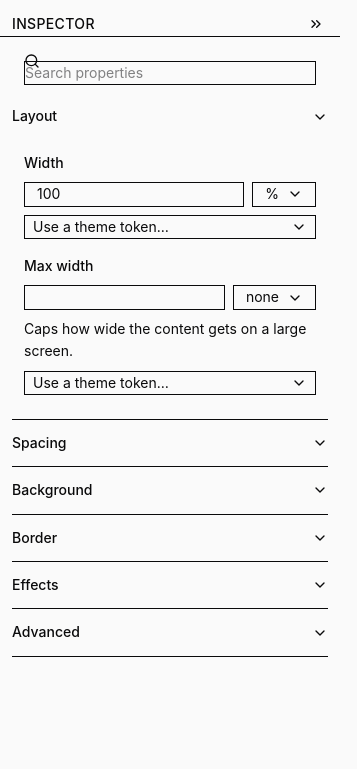
Test: applying a value to every breakpoint › shows the same value at every breakpoint afterwards
Click the button "Spacing" at (39, 442), box [12,420,328,466]
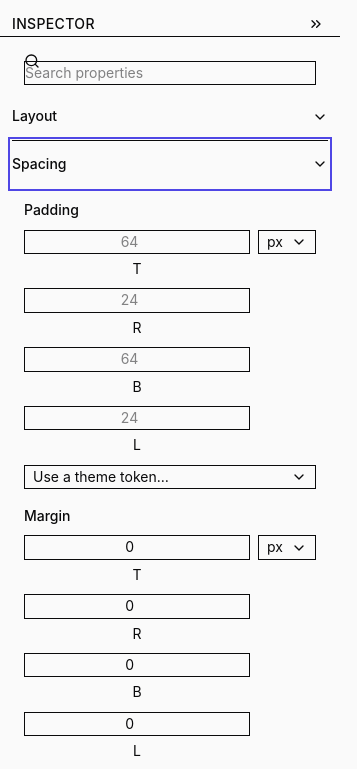
Type "8" into the number field named "Padding top" at (137, 242), box [24,230,250,254]
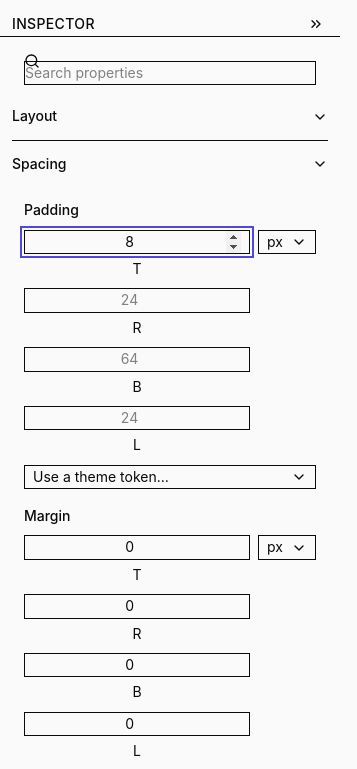
Replace the text in the number field named "Padding top" with "4" at (137, 242), box [24,230,250,254]
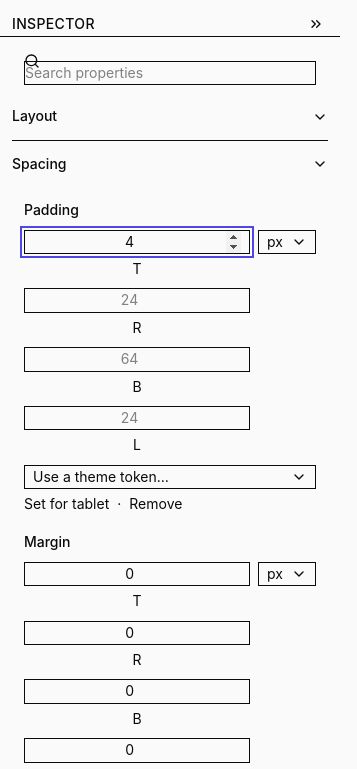
Type keys "{Meta>}{Enter}{/Meta}"
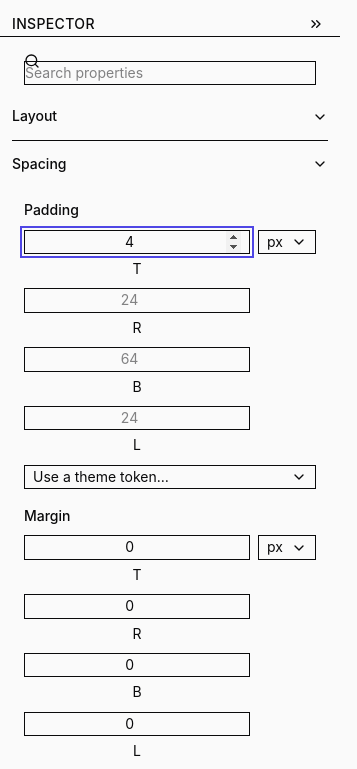
Check: the text "Set for" is gone
